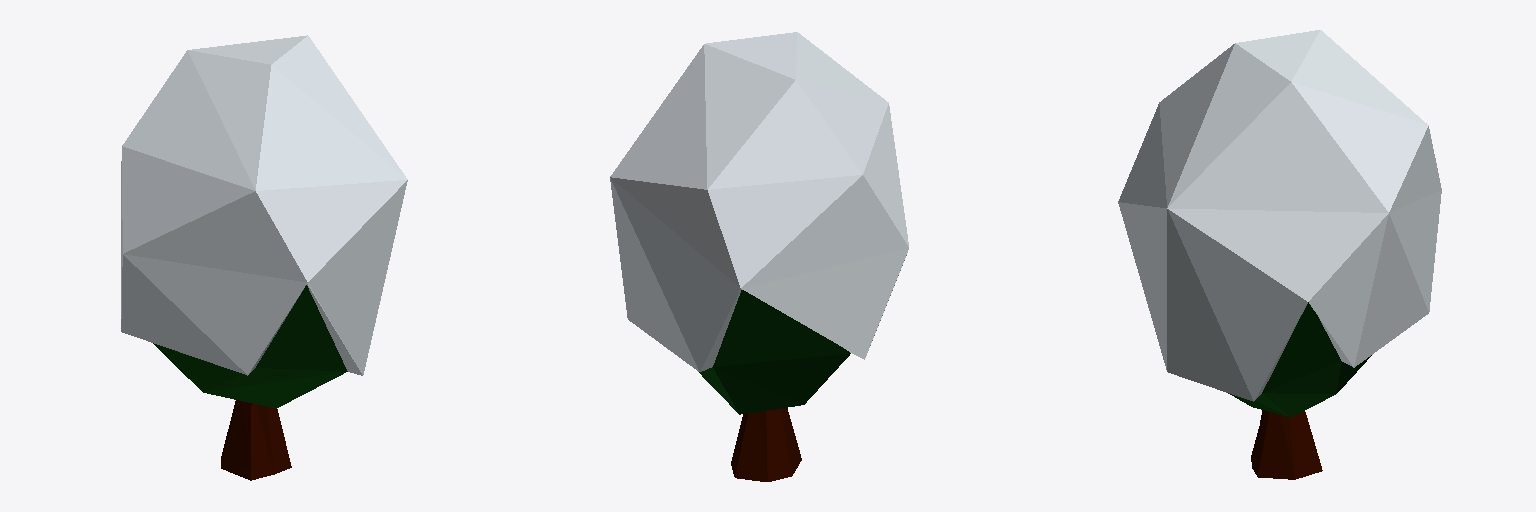
3 views of the same model, side by side, from view 1: azimuth 30°, elevation 25°; view 2: azimuth 150°, elevation 25°; view 3: azimuth 270°, elevation 25° (orthographic).
Parts seen in each view (by area): view 1: Circle.025; view 2: Circle.025; view 3: Circle.025.
Boxes of the visible parts, box(x1,y1,x2,y2) form: Circle.025: box(121, 35, 407, 480); Circle.025: box(610, 32, 908, 481); Circle.025: box(1118, 30, 1441, 479).
Bounding box in the file's own units: 7.31 × 10.65 × 7.47.
Materials: 1 (1 with a texture image).